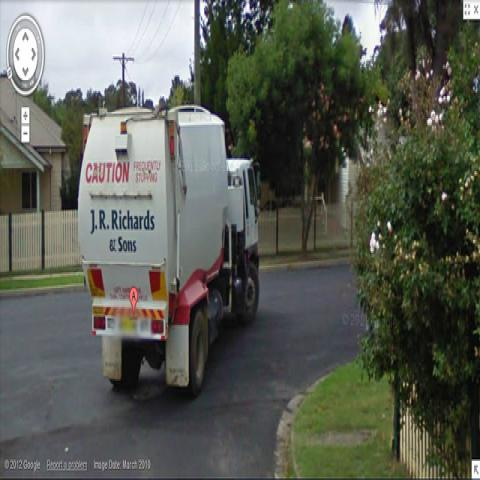truck: (78, 106, 263, 392)
